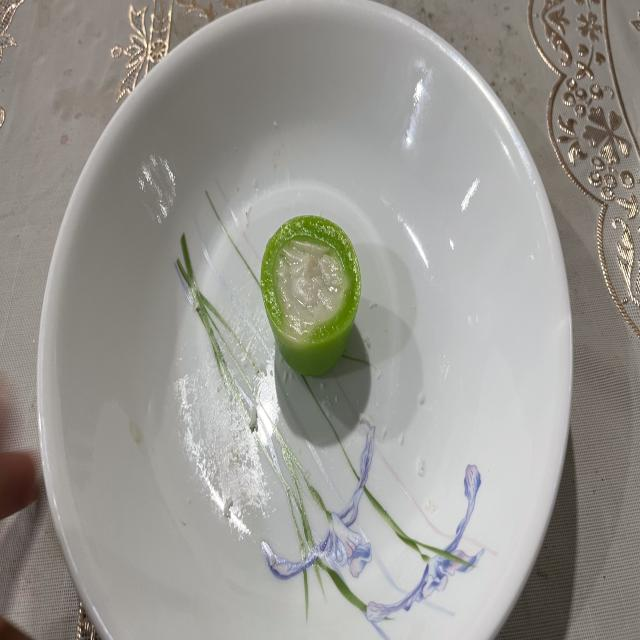nona-manis: (260, 216, 361, 376)
